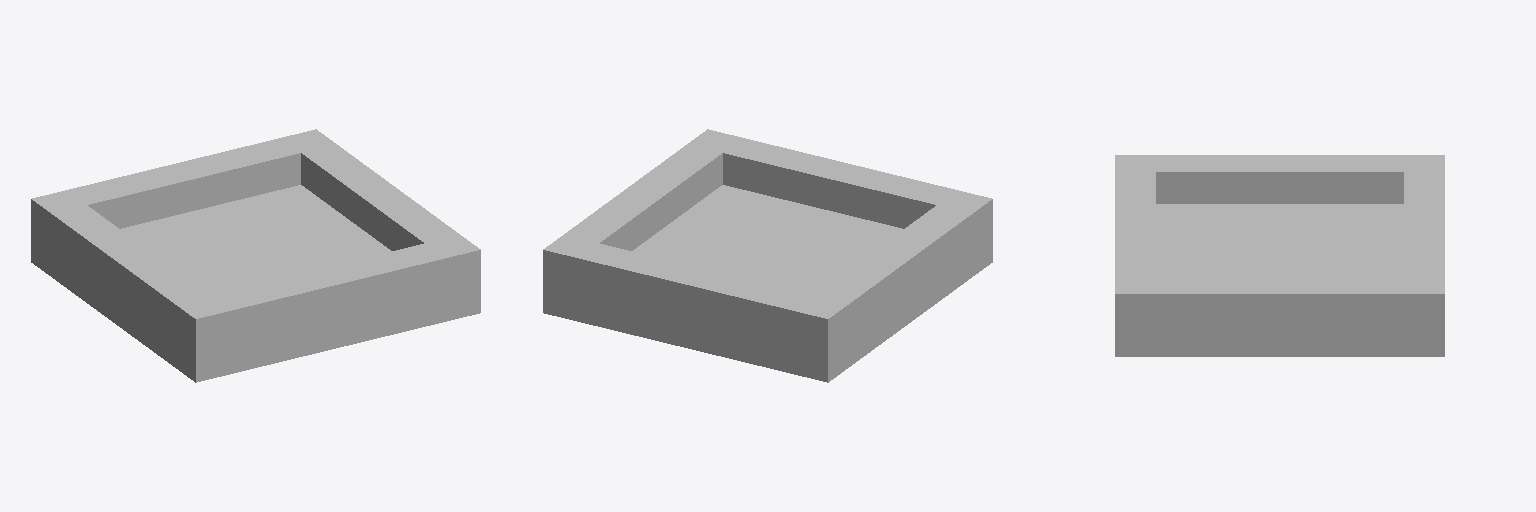
Rendered from roof-flat-border-center.obj.
3 renders of one model, left to right at view 1: azimuth 30°, elevation 25°; view 2: azimuth 150°, elevation 25°; view 3: azimuth 270°, elevation 25°, orthographic.
Parts seen in each view (by area): view 1: roof-flat-border-center; view 2: roof-flat-border-center; view 3: roof-flat-border-center.
Part boxes in pixels (bbox=[...]): roof-flat-border-center: bbox=[31, 129, 480, 382]; roof-flat-border-center: bbox=[543, 129, 992, 382]; roof-flat-border-center: bbox=[1115, 155, 1444, 356].
Size of the model in its own units: 1 by 0.2125 by 1.